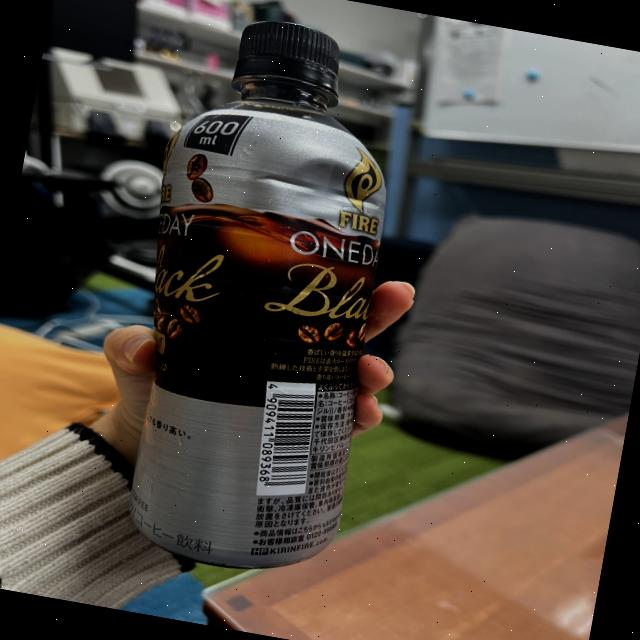coffee-black: (99, 1, 418, 591)
